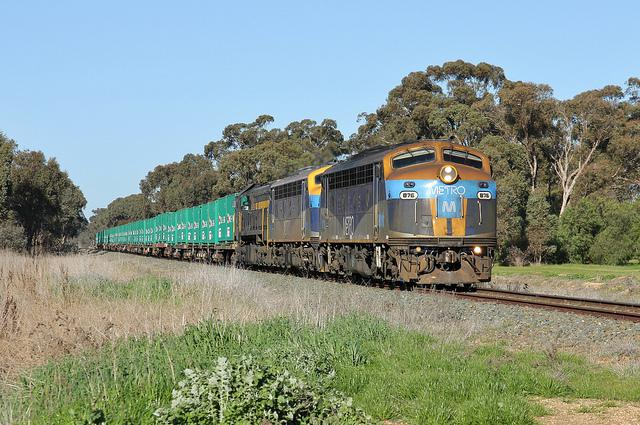Train: (94, 135, 505, 289)
